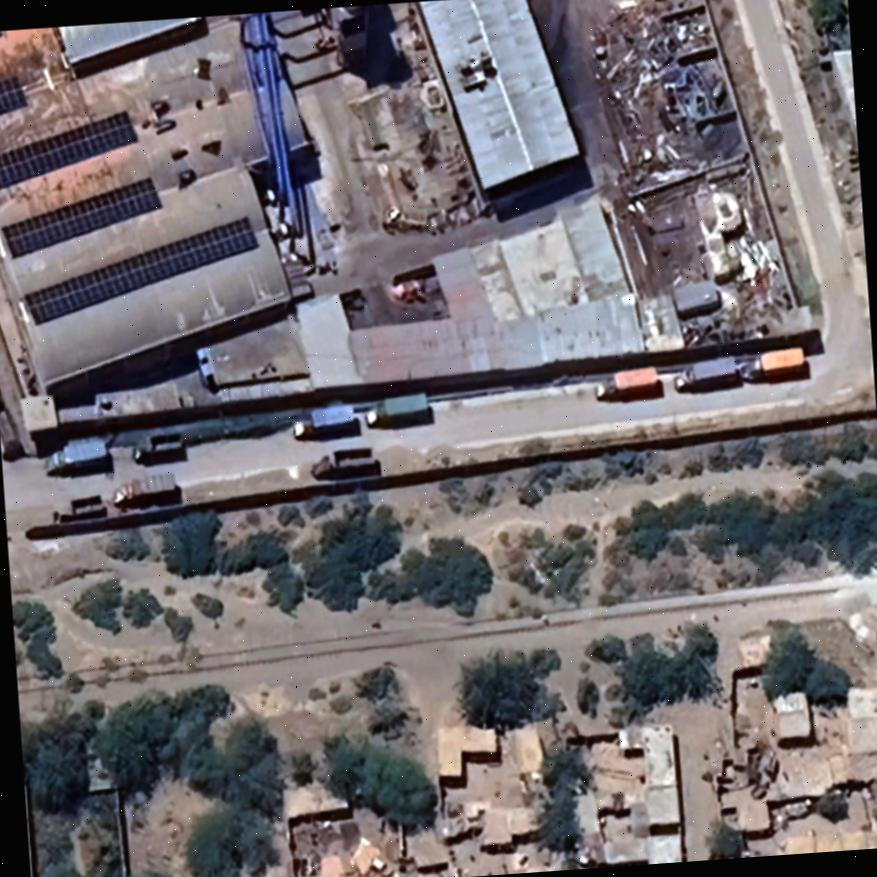Solarpanel: (11, 211, 263, 330), (0, 171, 169, 265), (0, 104, 142, 195), (0, 69, 31, 121)
